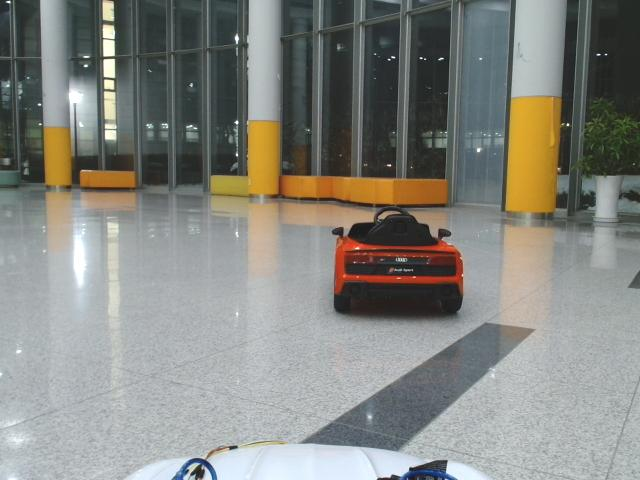car: (333, 206, 464, 314)
